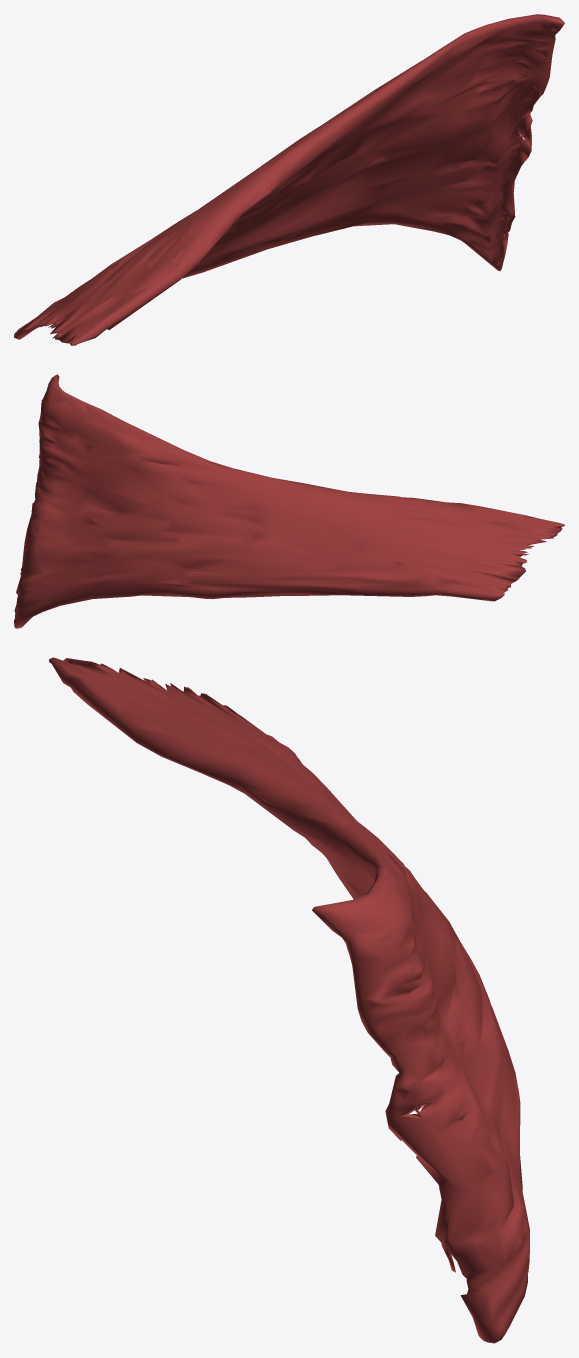
Rendered from transverse-part-of-trapezius-muscle-r.glb.
3 views of the same model, one above another, from view 1: azimuth 30°, elevation 25°; view 2: azimuth 150°, elevation 25°; view 3: azimuth 270°, elevation 25° (orthographic). The views are drawn at different scales.
Parts seen in each view (by area): view 1: Transverse part of trapezius muscle.r; view 2: Transverse part of trapezius muscle.r; view 3: Transverse part of trapezius muscle.r.
Boxes of the visible parts, x1,y1,x2,y2 form: Transverse part of trapezius muscle.r: (14,14,564,345); Transverse part of trapezius muscle.r: (14,374,564,628); Transverse part of trapezius muscle.r: (49,657,529,1343).
Bounding box in the file's own units: 0.1723 × 0.0812 × 0.0801.
